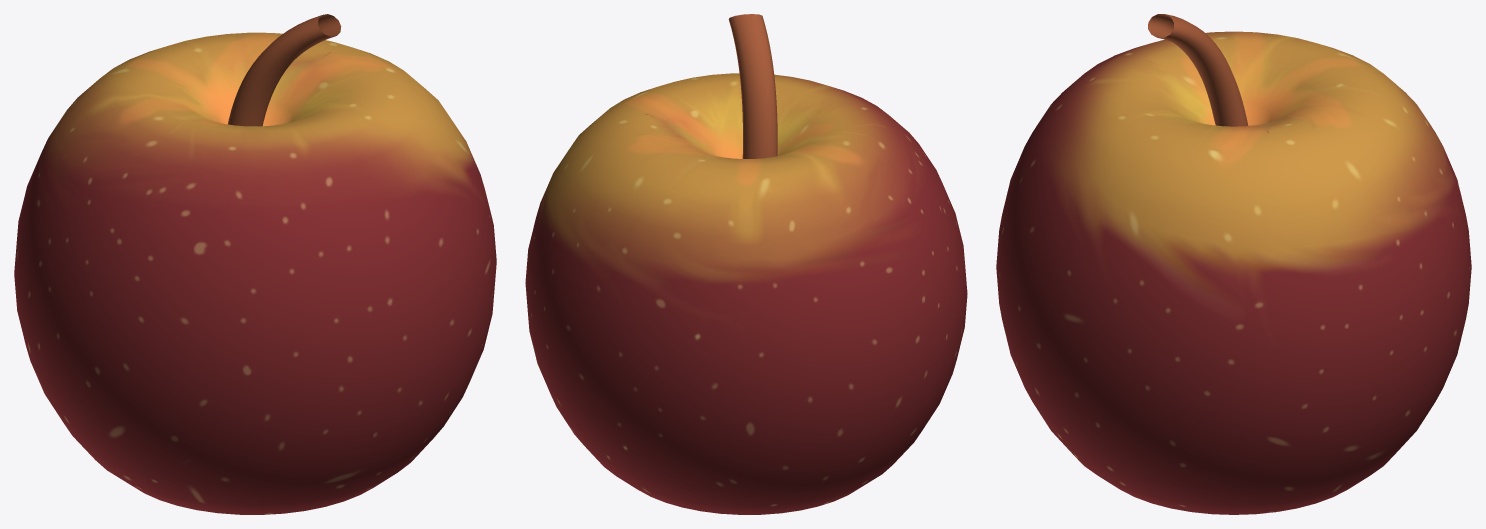
File: apel.glb
3 views of the same model, side by side, from view 1: azimuth 30°, elevation 25°; view 2: azimuth 150°, elevation 25°; view 3: azimuth 270°, elevation 25° (orthographic). The views are drawn at different scales.
Parts seen in each view (by area): view 1: Sphere, NurbsPath; view 2: Sphere, NurbsPath; view 3: Sphere, NurbsPath.
Part boxes in pixels (x1,y1,x2,y2): Sphere: (14, 32, 496, 514); NurbsPath: (228, 14, 341, 126); Sphere: (525, 73, 967, 514); NurbsPath: (728, 14, 777, 158); Sphere: (996, 31, 1471, 514); NurbsPath: (1148, 14, 1248, 126).
Size of the model in its own units: 0.185 by 0.1961 by 0.1815.
Materials: 2 (1 with a texture image).
